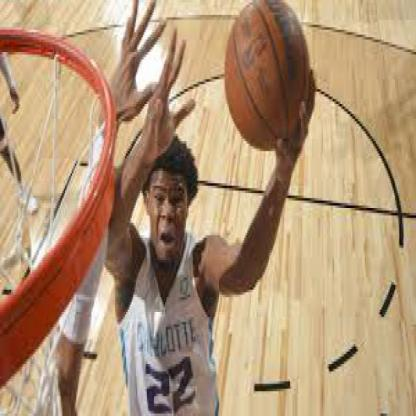basketball: (226, 0, 311, 149)
rim: (0, 27, 116, 396)
